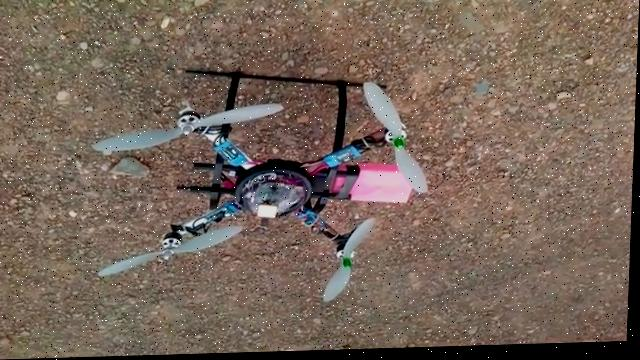drone: (89, 63, 435, 312)
